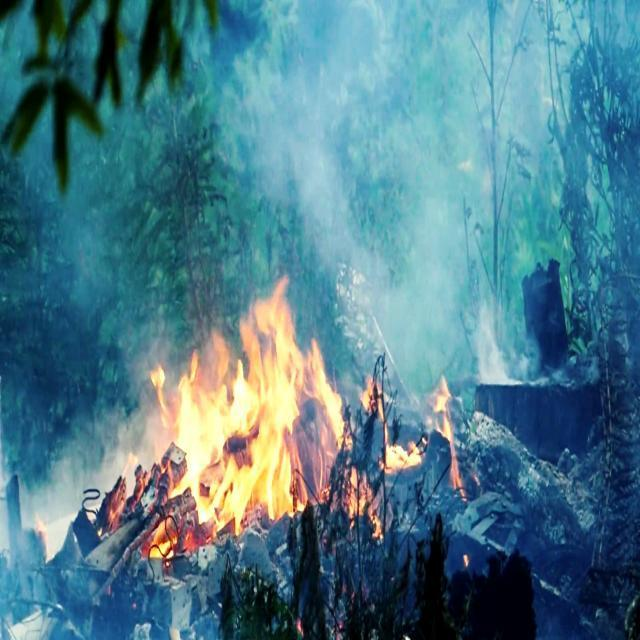Fire: (109, 272, 368, 564), (342, 364, 476, 538)
Smoke: (160, 0, 584, 394)
